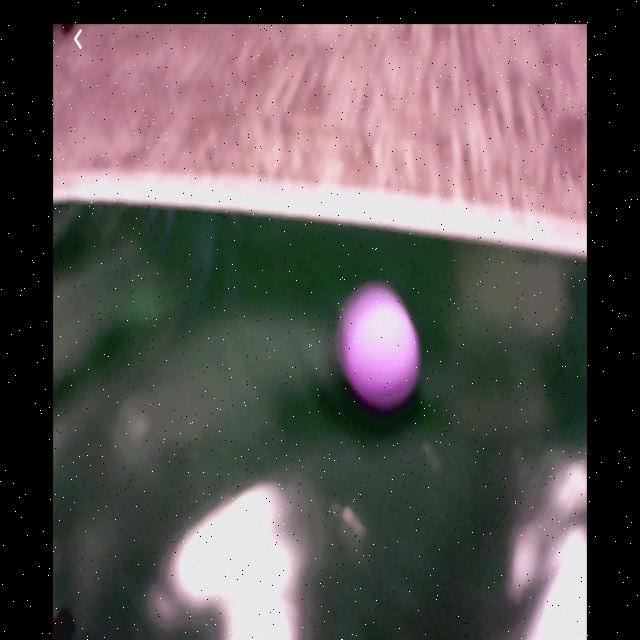ball: (348, 301, 423, 407)
